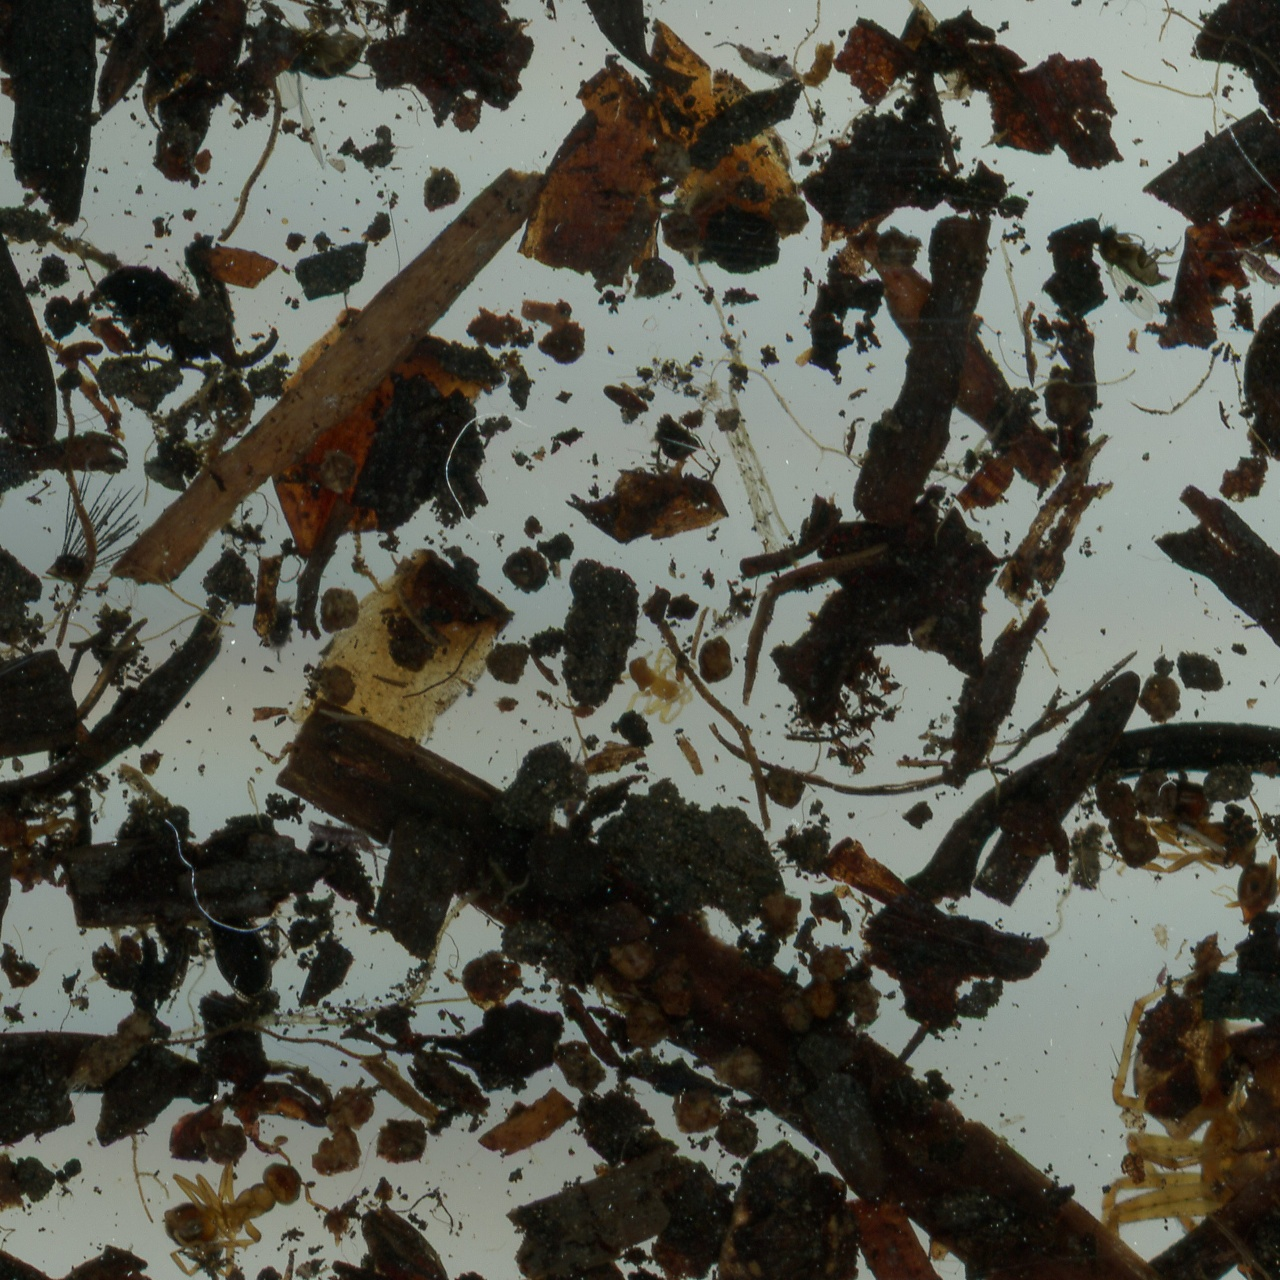arthropod: (1101, 961, 1280, 1274), (1108, 777, 1280, 926), (253, 8, 376, 171), (165, 1156, 304, 1280), (1099, 206, 1173, 322), (210, 911, 281, 1013), (309, 818, 396, 881), (629, 649, 697, 723), (713, 39, 804, 84), (1231, 247, 1280, 292)
